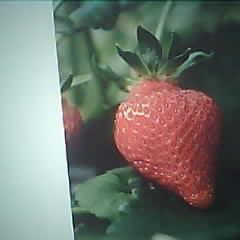straw-ripe: (112, 76, 222, 210)
